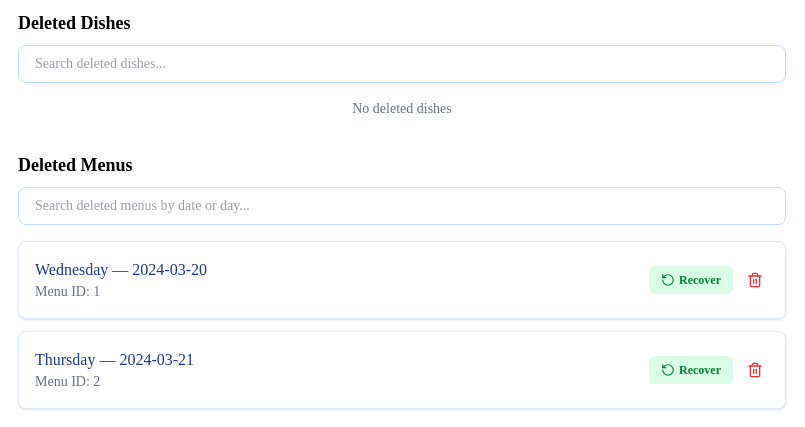
Test: TrashBin › Search Functionality › filters menus by day when searching
Expected: the text "Wednesday — 2024-03-20" is shown, [35,258,207,282]
In the field with placeholder "Search deleted menus by date or day...": coordinates (402, 206) [18,187,786,225], type "wednesday"
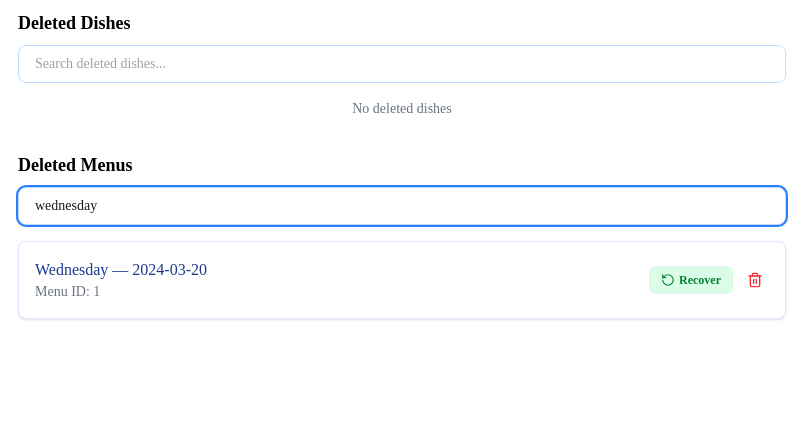
Expected: the text "Wednesday — 2024-03-20" is shown, [35,258,207,282]
Now the text "Thursday" is gone
